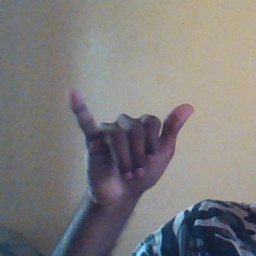J: (64, 89, 194, 198)
